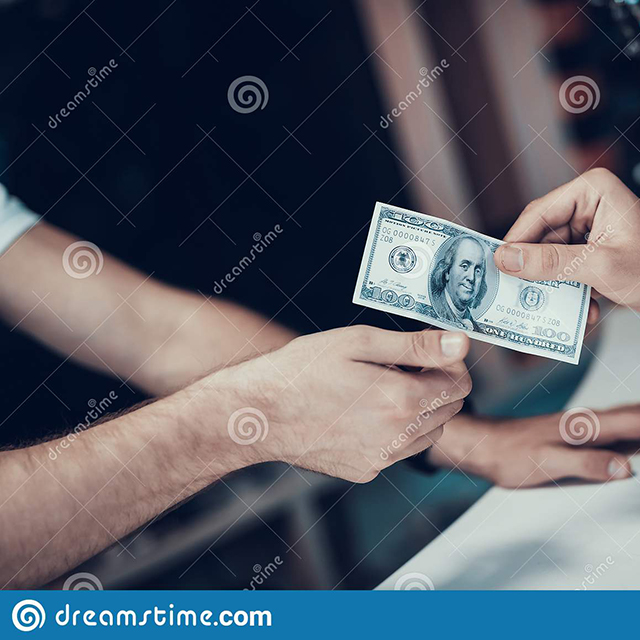banknotes: (350, 202, 591, 366)
